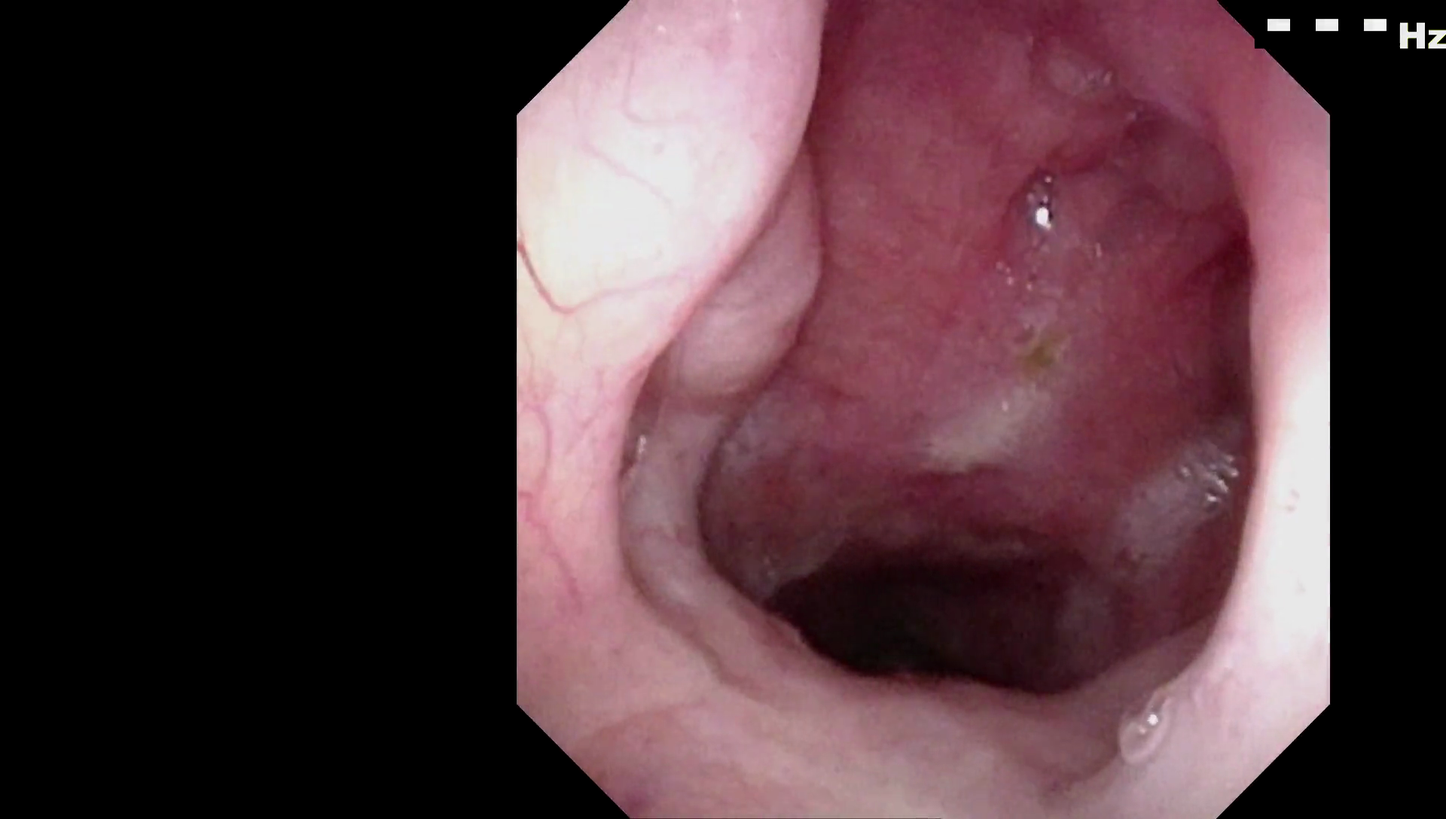next: (711, 476, 1126, 702)
